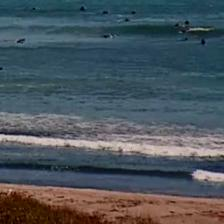surfer: (177, 37, 190, 42), (16, 38, 26, 44), (102, 33, 112, 39), (78, 6, 86, 13), (102, 10, 110, 16), (200, 38, 206, 46), (183, 20, 190, 26), (130, 10, 138, 15), (179, 29, 188, 33), (32, 7, 38, 12), (124, 17, 130, 22), (173, 23, 179, 27), (1, 66, 3, 72)
